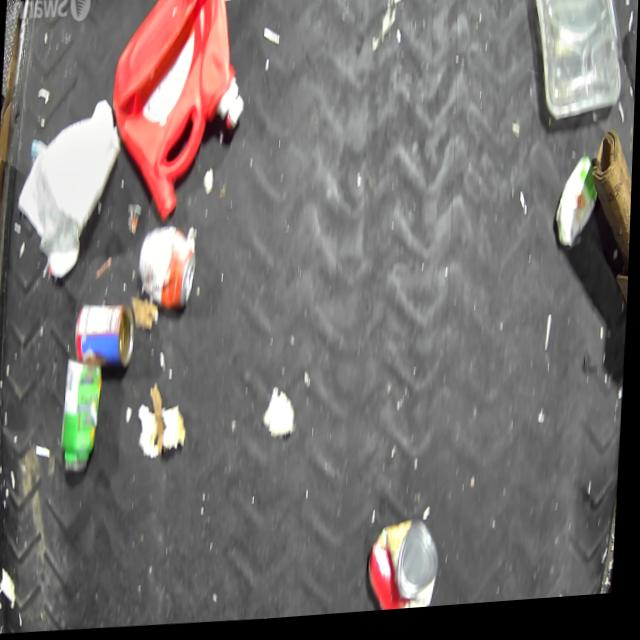can: (366, 521, 445, 618), (137, 225, 198, 315), (74, 297, 137, 373)
non_white_jug: (105, 0, 250, 225)
